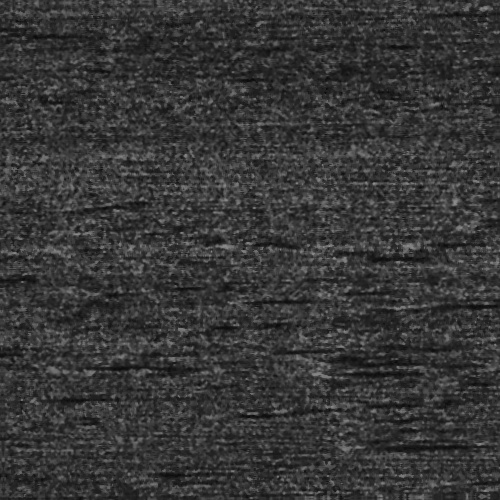object: (380, 303, 453, 308)
shadow: (417, 303, 500, 308), (358, 447, 418, 450)
